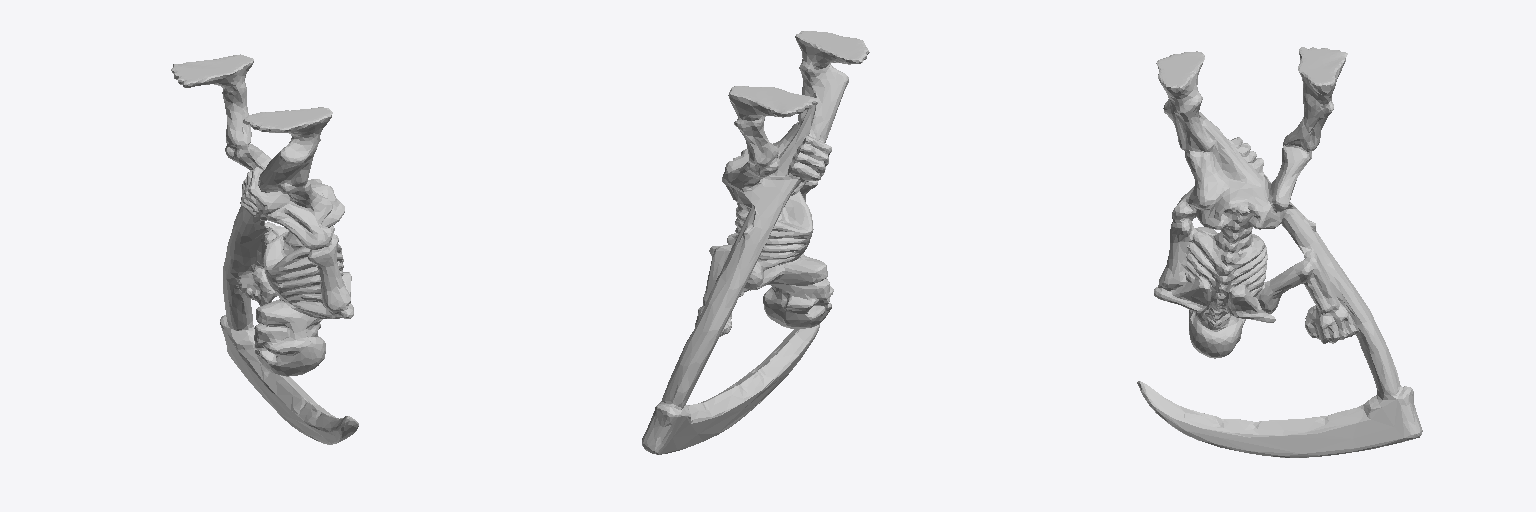
File: skeleton.obj
3 renders of one model, left to right at view 1: azimuth 30°, elevation 25°; view 2: azimuth 150°, elevation 25°; view 3: azimuth 270°, elevation 25°, orthographic.
Bounding box in the file's own units: 1.91 × 5.35 × 3.85.